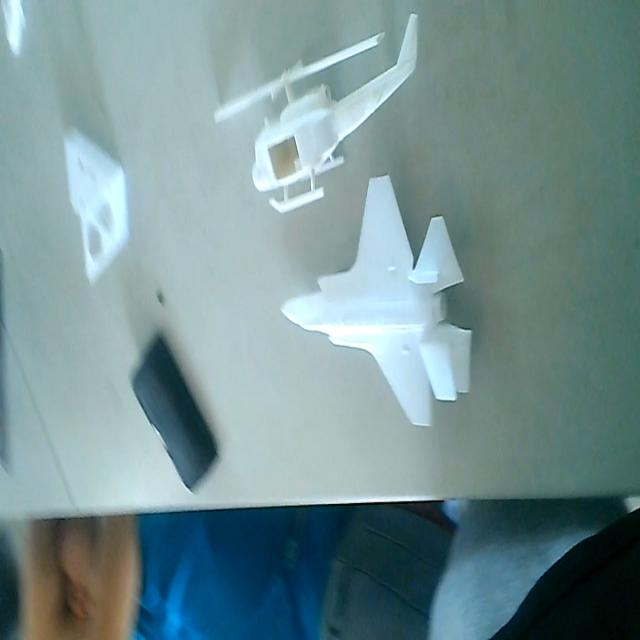Helicopter: (212, 15, 418, 217)
Jet: (277, 172, 475, 432)
